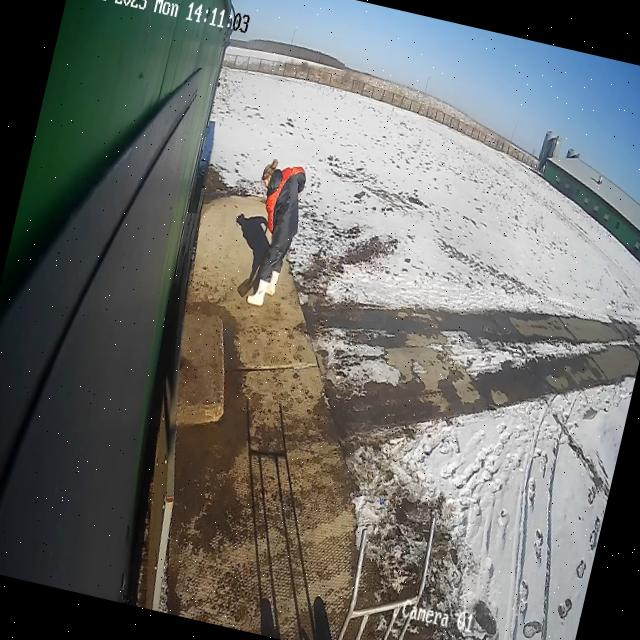Red uniform: (230, 155, 312, 313)
